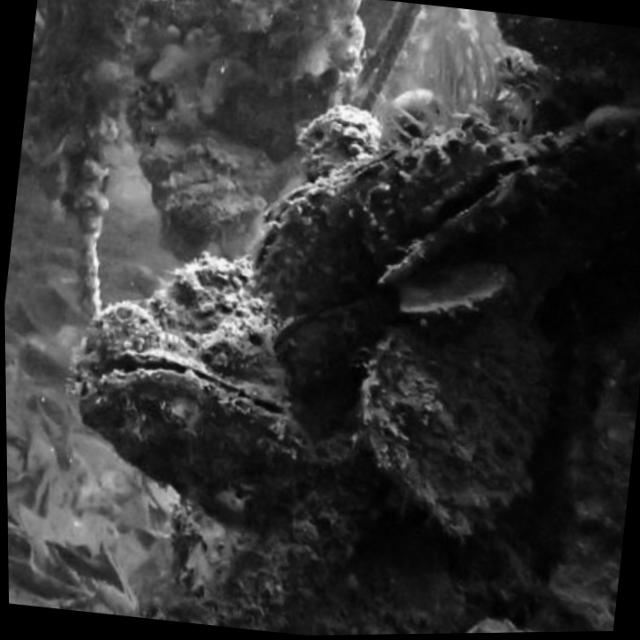Oyster-Closed: (249, 119, 524, 318)
Oyster-Indeterminate: (362, 308, 552, 512), (399, 263, 521, 324), (467, 614, 540, 633)
Oyster-Open: (77, 347, 319, 524), (375, 122, 590, 294)
